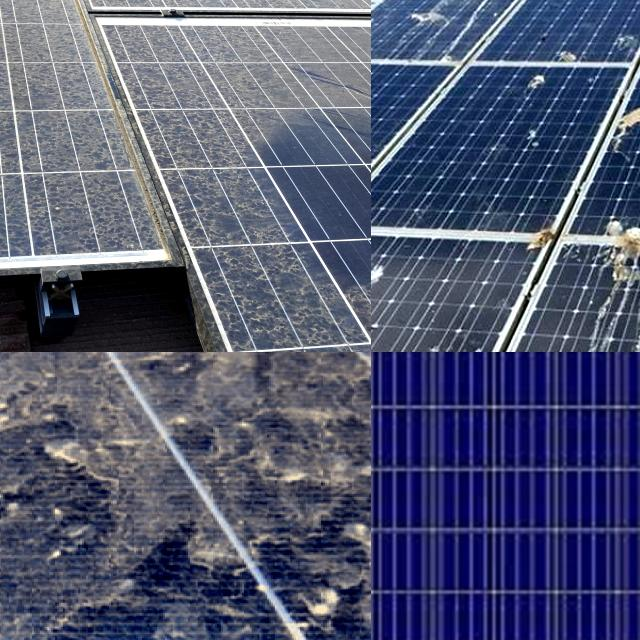bird: (506, 66, 570, 154), (371, 256, 429, 352), (594, 205, 640, 309), (392, 0, 476, 46), (583, 100, 640, 151), (522, 225, 572, 258)
crack: (371, 352, 640, 640)
dust: (157, 352, 371, 640), (0, 352, 120, 640), (142, 30, 250, 174), (204, 212, 311, 352), (269, 37, 371, 183), (0, 352, 51, 640), (0, 138, 136, 228), (0, 0, 84, 118), (0, 0, 75, 123), (0, 139, 70, 257), (65, 352, 371, 377), (98, 0, 261, 35), (52, 0, 183, 39), (23, 0, 178, 28), (0, 352, 145, 380), (0, 0, 94, 36), (0, 0, 80, 34), (338, 293, 371, 352), (223, 0, 293, 27), (0, 0, 55, 28)
